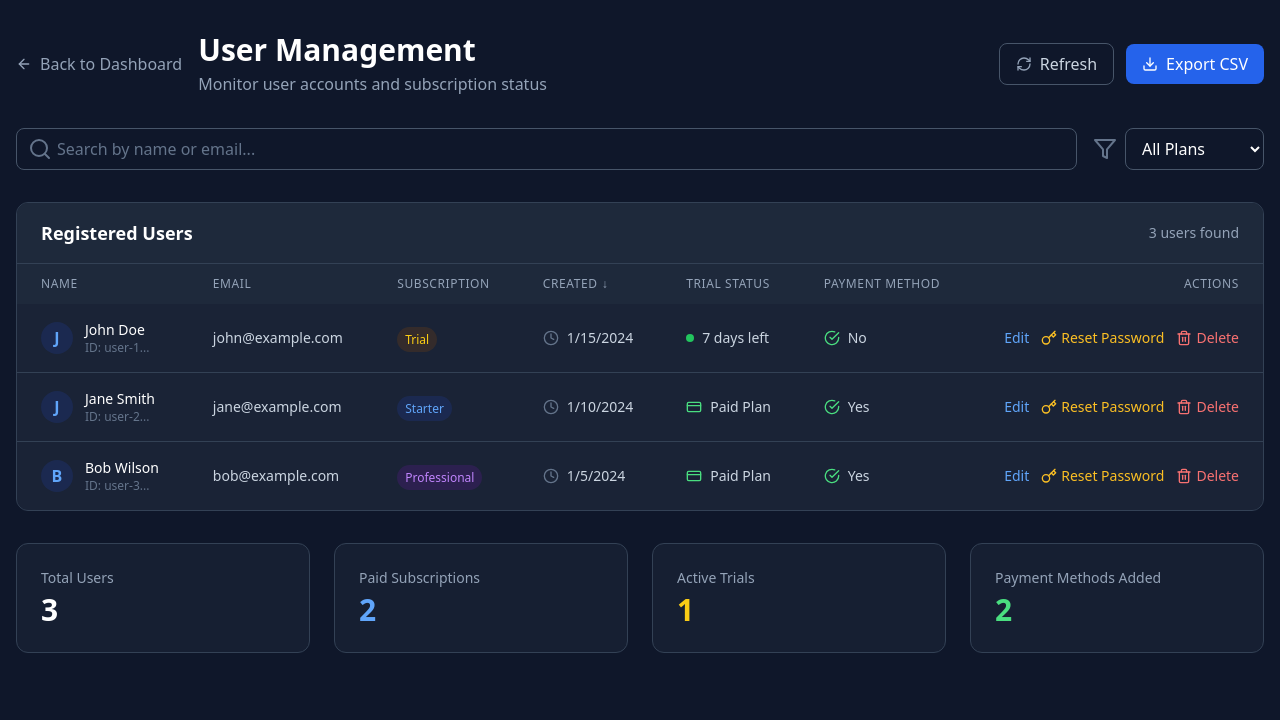
UserDashboard Component › Plan Filter › should filter by trial plan
Expected: the text "John Doe" is shown, left=85, top=320, right=150, bottom=340
Select "Trial" in the dropdown. click: [1194, 149]
box: left=1125, top=128, right=1264, bottom=170
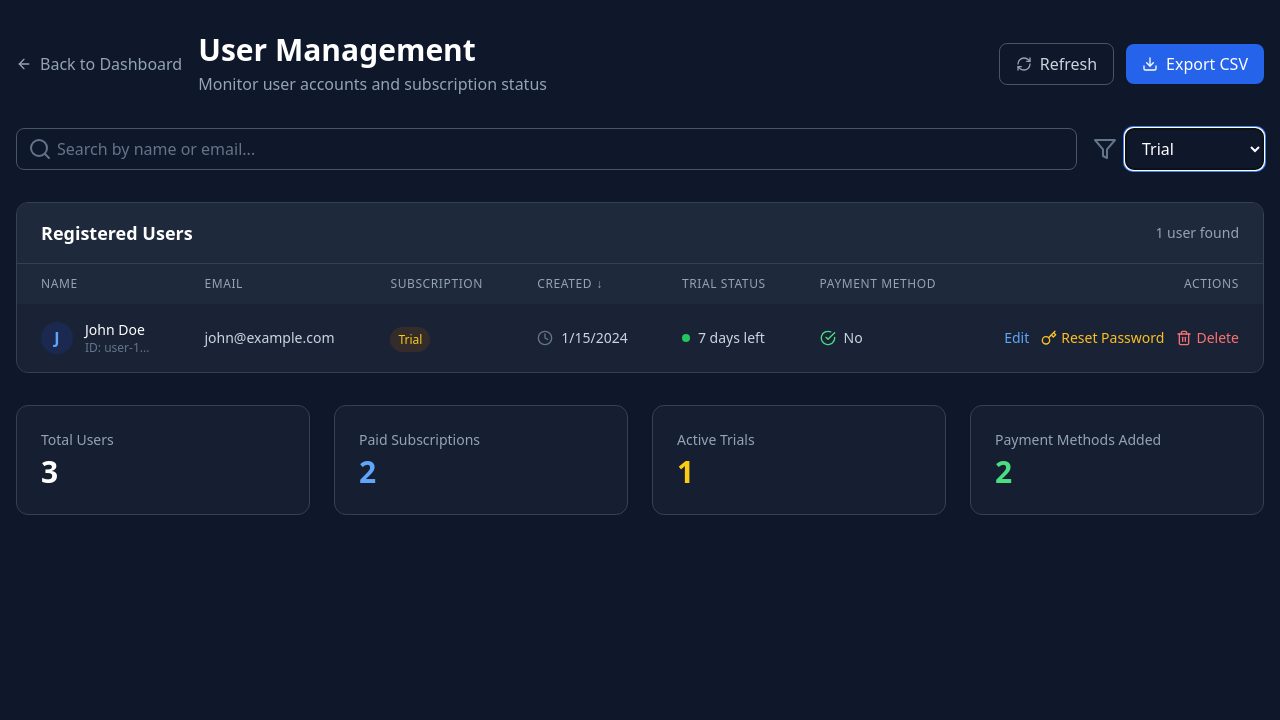
Expected: the text "John Doe" is shown, left=85, top=320, right=150, bottom=340
Expected: the text "Jane Smith" is gone
Expected: the text "Bob Wilson" is gone
